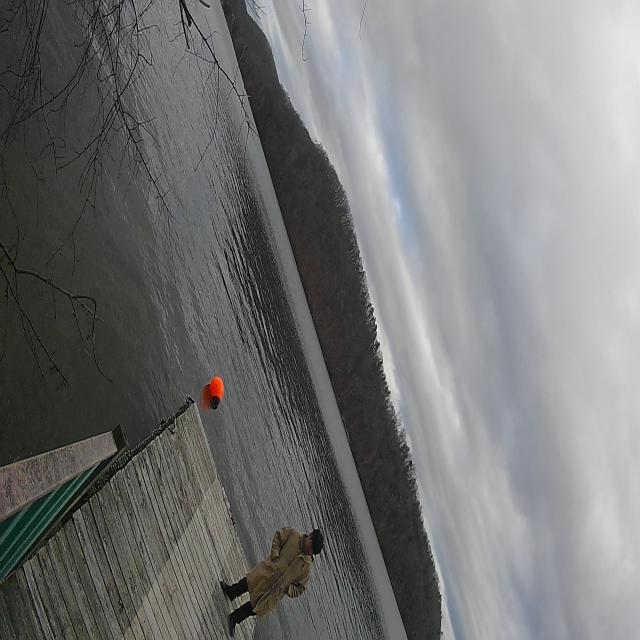Buoy: (208, 374, 226, 413)
